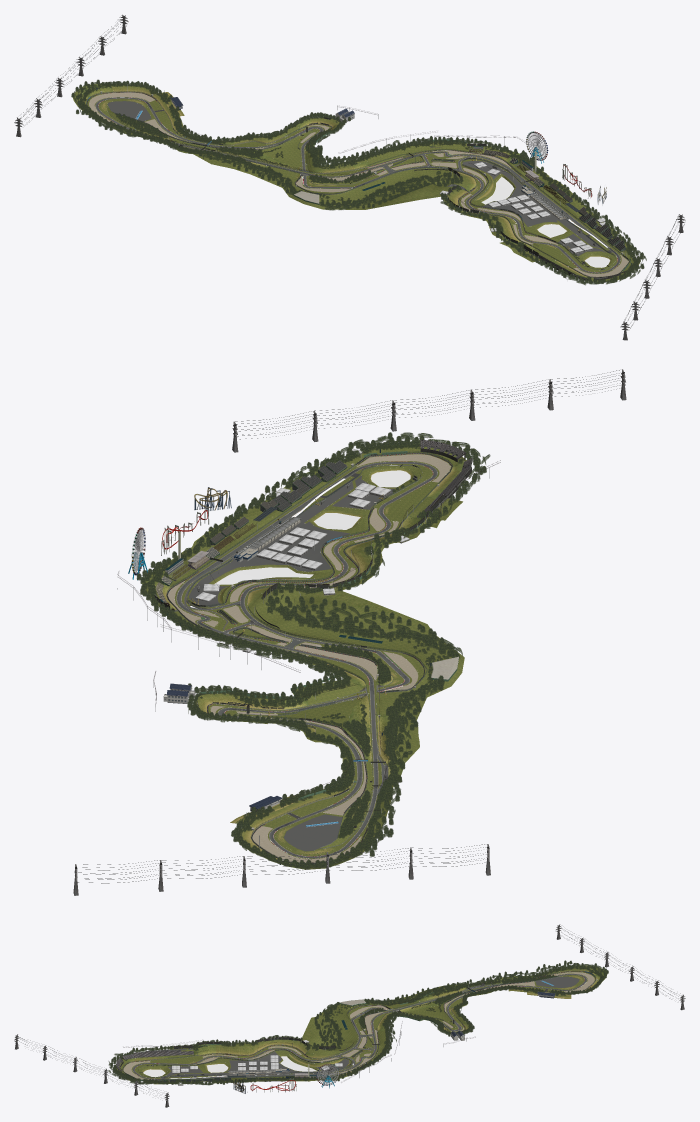
File: suzuka_circuit_2001_layout-optimized-optimized.glb
3 views of the same model, one above another, from view 1: azimuth 30°, elevation 25°; view 2: azimuth 150°, elevation 25°; view 3: azimuth 270°, elevation 25° (orthographic). The views are drawn at different scales.
Parts seen in each view (by area): view 1: suzuka_2001_0; view 2: suzuka_2001_0; view 3: suzuka_2001_0, suzuka_ferriswheel_2.
Boxes of the visible parts, x1,y1,x2,y2 form: suzuka_2001_0: (14,14,685,340); suzuka_2001_0: (73,369,626,895); suzuka_2001_0: (14,924,685,1107); suzuka_ferriswheel_2: (316,1064,339,1085).
Size of what is drawn, in the model's own units: 1671 by 158 by 2972.
Materials: 99 (96 with a texture image).
